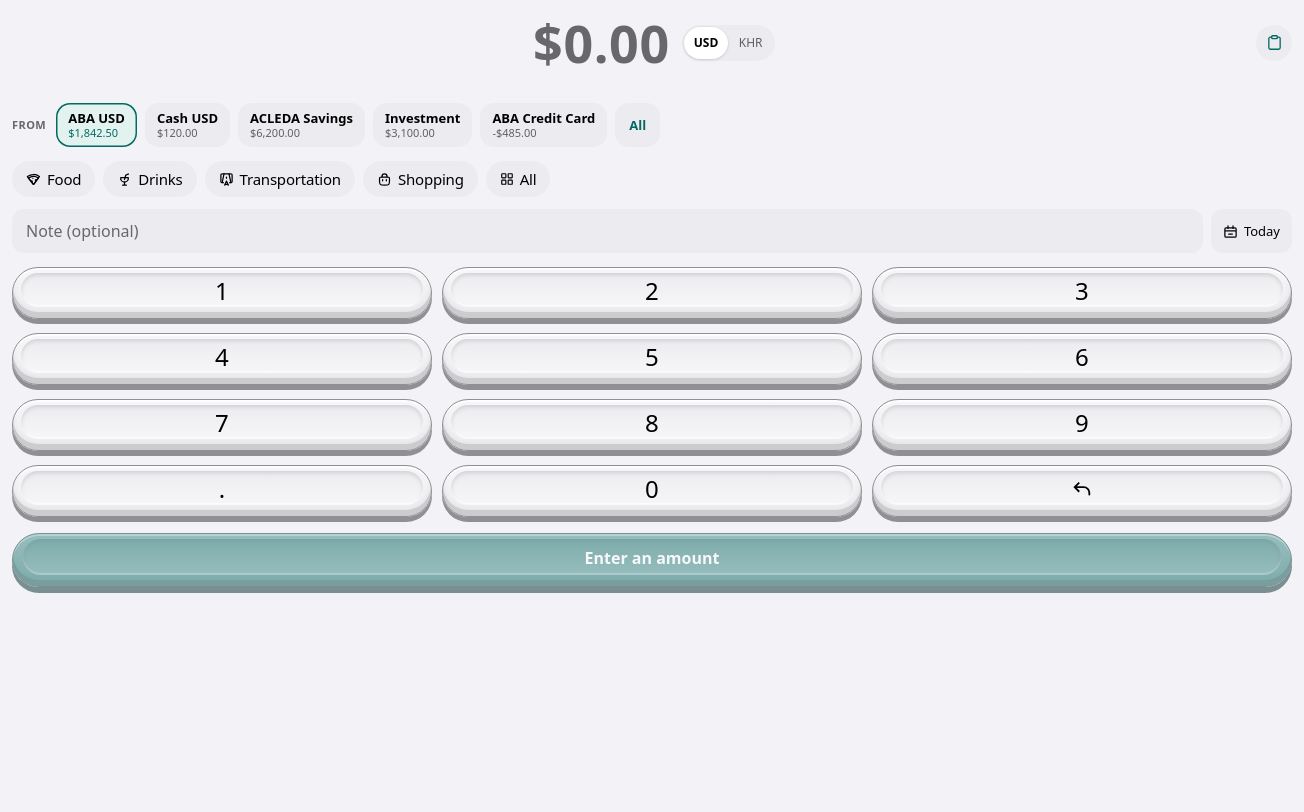
Test: transaction save feedback › refuses a missing date without submitting or losing the note
Click the button "5".
click(652, 359)  # box [442,333,862,385]
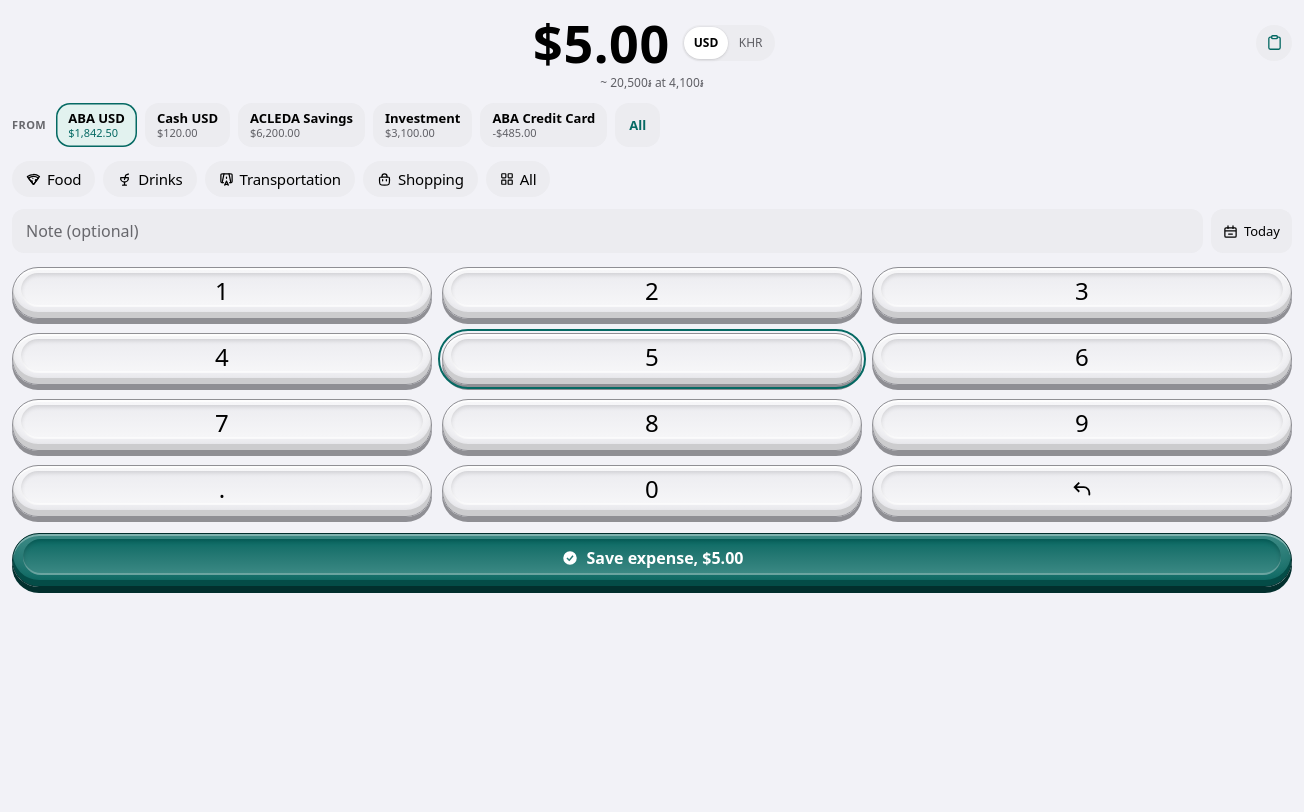
Type "Keep me" into the field labelled "Note".
click(607, 231); type("Keep me")  # box [12,209,1203,253]
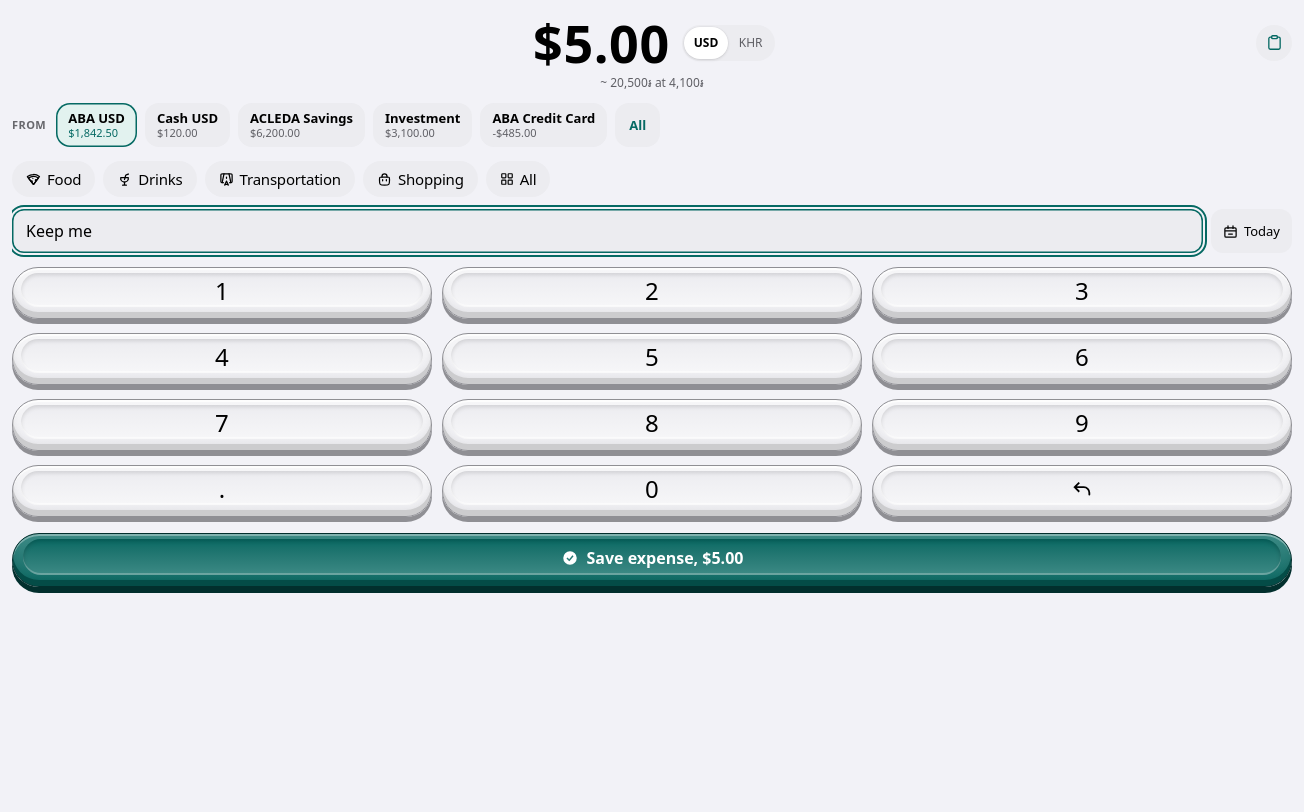
Click the button with aria-label "Date: Today".
click(1251, 231)  # box [1211,209,1292,253]
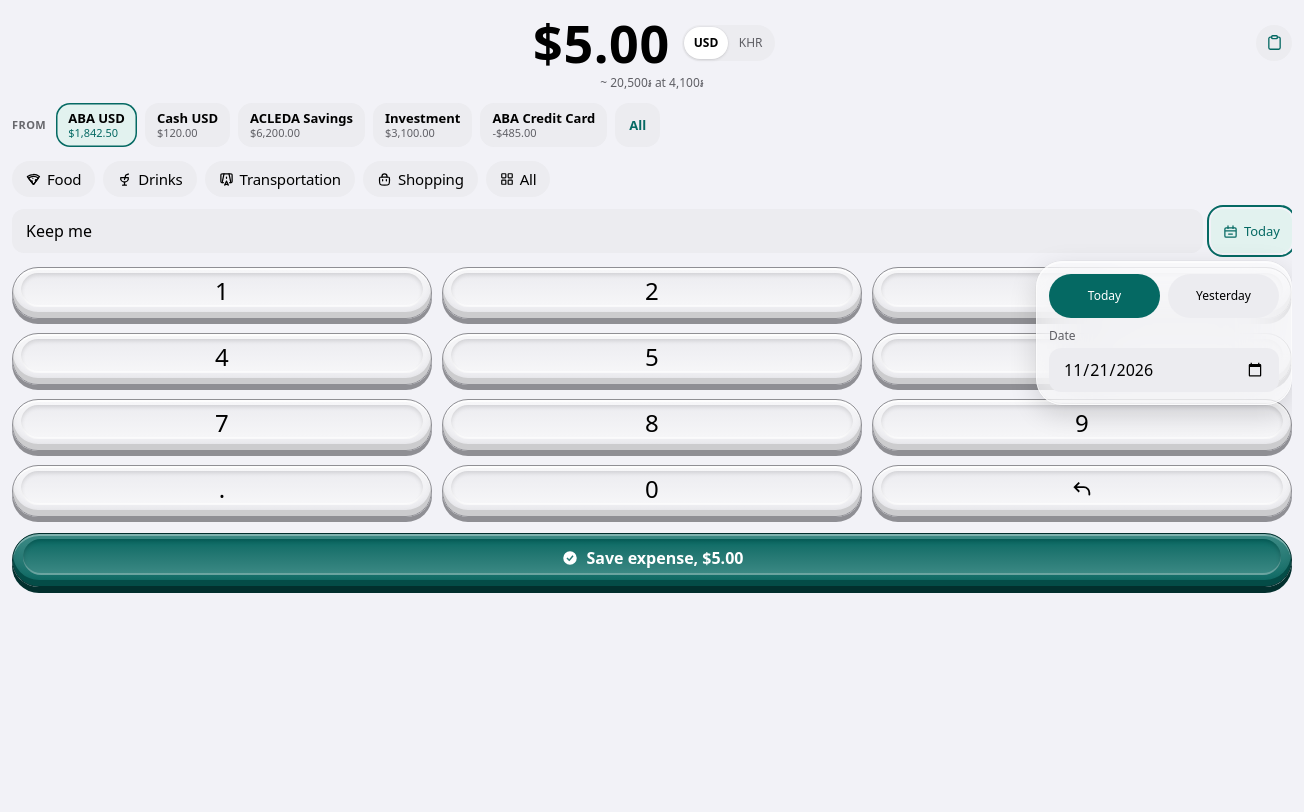
Clear the date field labelled "Date" at point(1164, 370), box [1049,348,1279,392]
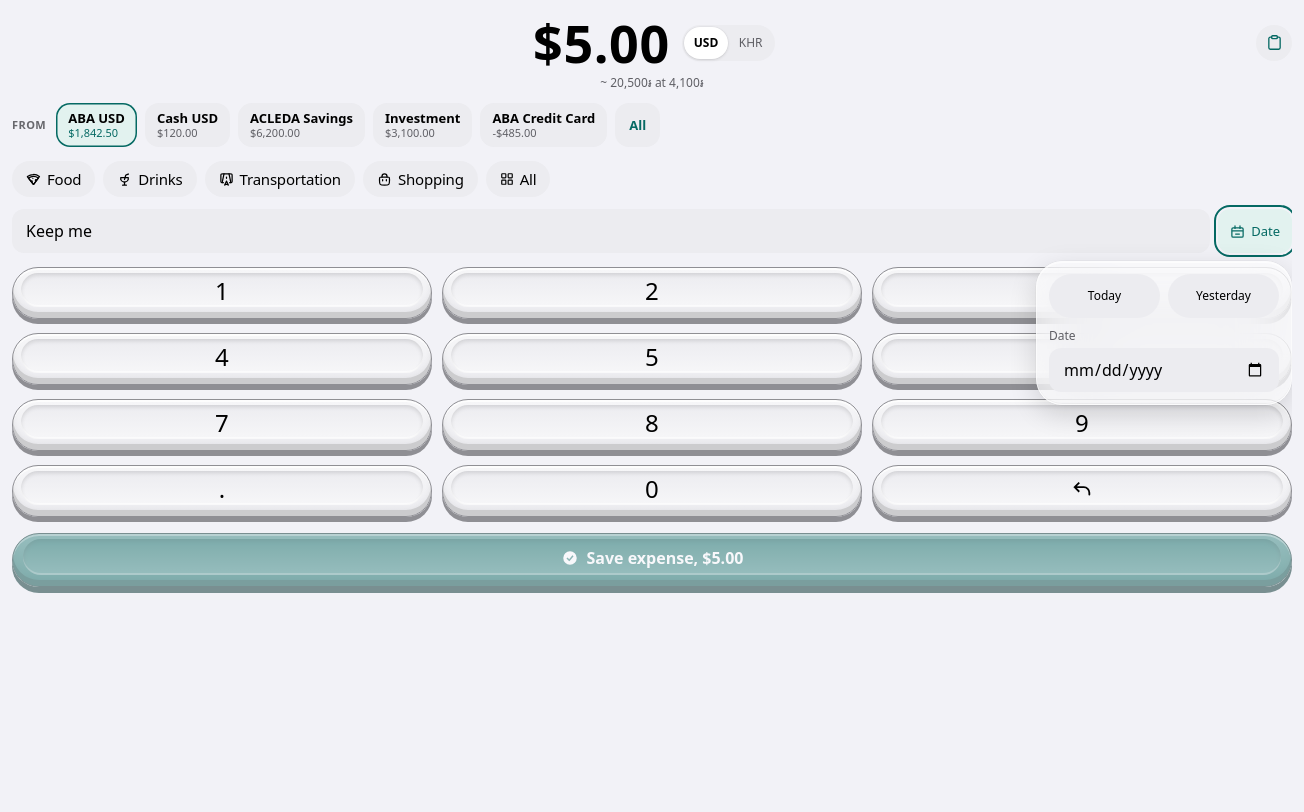
Check: the button "Save expense, $5.00" is disabled, box [12,533,1292,587]
